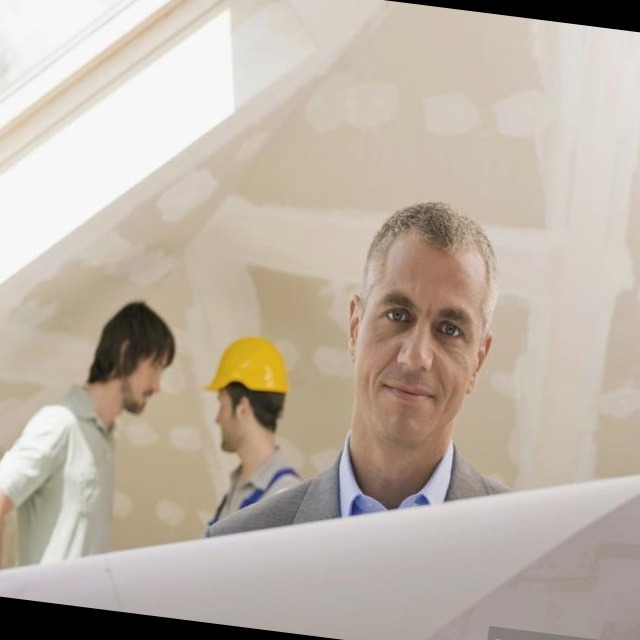Con_Casco: (199, 328, 294, 459)
Sin_Casco_Mascarrilla: (337, 195, 508, 444), (83, 296, 179, 425)
